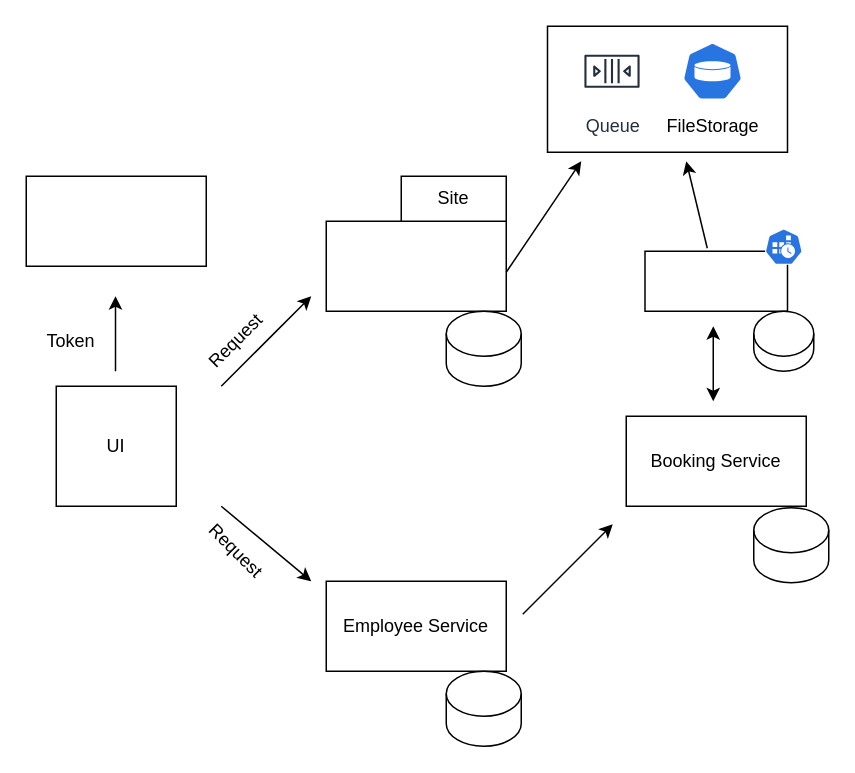
This 855x773 diagram has some shape labels left out. Here are the shapes that lost their labels. From the top down, the centre of each, then its label:
At point (115, 220): "Authentication Service".
At point (415, 265): "Organisation Service".
At point (716, 280): "Desk Service".
